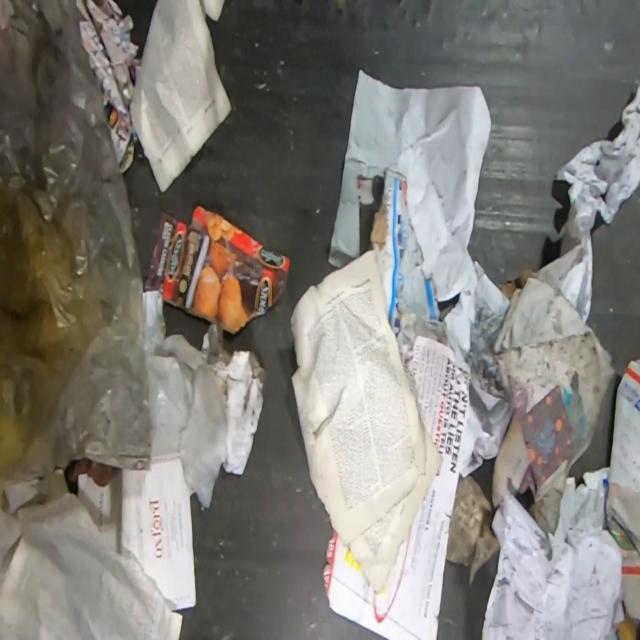cardboard: (144, 202, 292, 335), (357, 168, 440, 337), (604, 359, 640, 623)
soft_plastic: (0, 0, 152, 499)
